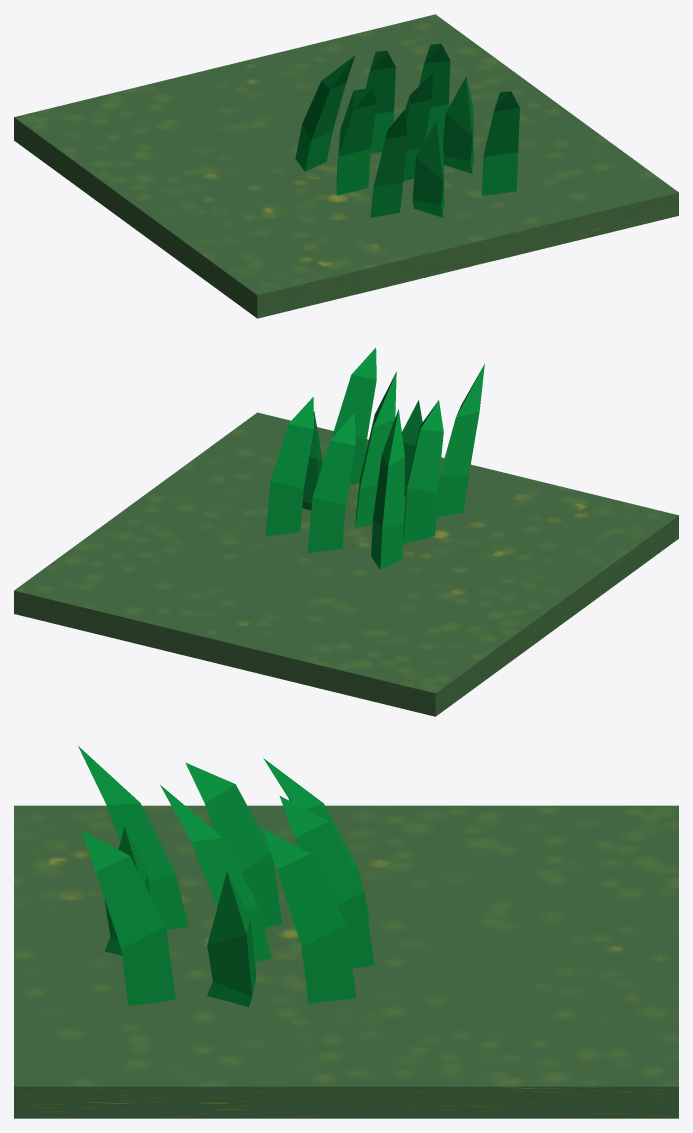
File: grass_03.glb
The picture shows the model from 3 angles, top to bottom: view 1: azimuth 30°, elevation 25°; view 2: azimuth 150°, elevation 25°; view 3: azimuth 270°, elevation 25°; orthographic projection. The views are drawn at different scales.
Visible parts, largest first — view 1: Cube, GrassBunch7; view 2: Cube, GrassBunch7; view 3: Cube, GrassBunch7.
Part boxes in pixels (bbox=[...]): Cube: bbox=[14, 14, 678, 318]; GrassBunch7: bbox=[295, 43, 519, 217]; Cube: bbox=[14, 412, 678, 716]; GrassBunch7: bbox=[265, 347, 484, 569]; Cube: bbox=[14, 805, 678, 1118]; GrassBunch7: bbox=[78, 746, 374, 1007].
Bounding box in the file's own units: 2 × 0.6831 × 2.
Materials: 2 (2 with a texture image).
